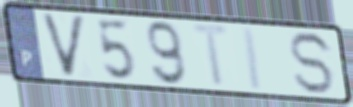5: (94, 16, 138, 82)
9: (144, 18, 189, 87)
I: (240, 25, 266, 93)
S: (288, 29, 339, 96)
T: (189, 21, 235, 90)
V: (38, 11, 88, 80)
